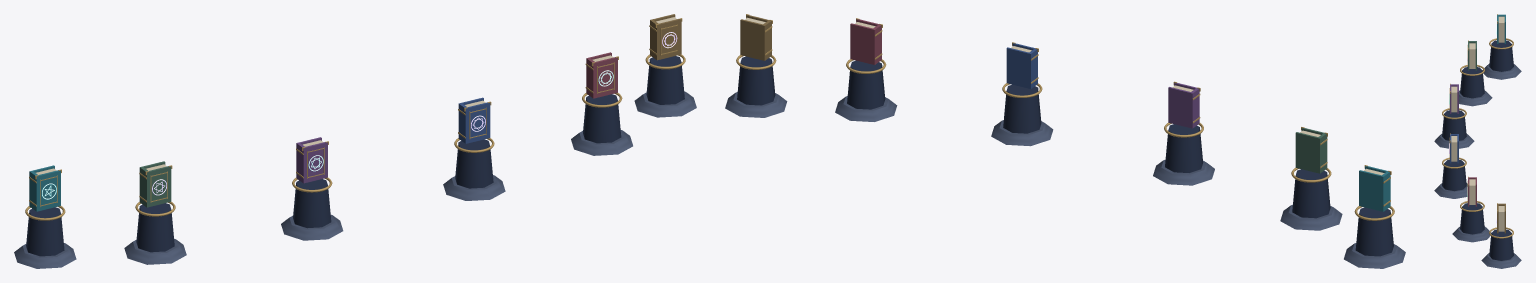
File: archive-grimoires.glb
3 views of the same model, side by side, from view 1: azimuth 30°, elevation 25°; view 2: azimuth 150°, elevation 25°; view 3: azimuth 270°, elevation 25° (orthographic). The views are drawn at different scales.
Parts seen in each view (by area): view 1: GrimoirePedestal_0_dark, GrimoirePedestal_1_dark, GrimoirePedestal_4_dark, GrimoirePedestal_3_dark, GrimoirePedestal_5_dark, GrimoirePedestal_2_dark, Grimoire_2_green, Grimoire_4_blue, Grimoire_1_teal, Grimoire_6_leather, Grimoire_3_violet, Grimoire_5_red (+6 smaller); view 2: GrimoirePedestal_5_dark, GrimoirePedestal_0_dark, GrimoirePedestal_4_dark, GrimoirePedestal_1_dark, GrimoirePedestal_3_dark, GrimoirePedestal_2_dark, Grimoire_2_green, Grimoire_4_blue, Grimoire_5_red, Grimoire_6_leather, Grimoire_3_violet, Grimoire_1_teal (+6 smaller); view 3: GrimoirePedestal_0_dark, GrimoirePedestal_1_dark, GrimoirePedestal_3_dark, GrimoirePedestal_4_dark, GrimoirePedestal_5_dark, GrimoirePedestal_2_dark, GrimoirePedestal_4_stone, GrimoirePedestal_5_stone, GrimoirePedestal_0_stone, GrimoirePedestal_1_stone, GrimoirePedestal_3_stone, GrimoirePedestal_2_stone (+18 smaller).
Boxes of the visible parts, left/top/right/bottom form: GrimoirePedestal_0_dark: left=26, top=207, right=64, bottom=256; GrimoirePedestal_1_dark: left=136, top=203, right=174, bottom=252; GrimoirePedestal_4_dark: left=583, top=94, right=621, bottom=143; GrimoirePedestal_3_dark: left=455, top=139, right=493, bottom=188; GrimoirePedestal_5_dark: left=646, top=56, right=684, bottom=104; GrimoirePedestal_2_dark: left=293, top=179, right=331, bottom=228; Grimoire_2_green: left=139, top=161, right=171, bottom=207; Grimoire_4_blue: left=458, top=97, right=490, bottom=143; Grimoire_1_teal: left=29, top=165, right=60, bottom=211; Grimoire_6_leather: left=650, top=14, right=681, bottom=60; Grimoire_3_violet: left=296, top=137, right=327, bottom=183; Grimoire_5_red: left=586, top=52, right=617, bottom=98; GrimoirePedestal_5_dark: left=737, top=56, right=775, bottom=105; GrimoirePedestal_0_dark: left=1355, top=207, right=1393, bottom=256; GrimoirePedestal_4_dark: left=847, top=60, right=885, bottom=109; GrimoirePedestal_1_dark: left=1292, top=169, right=1330, bottom=218; GrimoirePedestal_3_dark: left=1003, top=84, right=1041, bottom=133; GrimoirePedestal_2_dark: left=1165, top=124, right=1203, bottom=172; Grimoire_2_green: left=1295, top=128, right=1327, bottom=173; Grimoire_4_blue: left=1006, top=43, right=1037, bottom=88; Grimoire_5_red: left=850, top=19, right=881, bottom=64; Grimoire_6_leather: left=740, top=15, right=771, bottom=60; Grimoire_3_violet: left=1168, top=83, right=1199, bottom=128; Grimoire_1_teal: left=1359, top=166, right=1390, bottom=211; GrimoirePedestal_0_dark: left=1489, top=40, right=1513, bottom=71; GrimoirePedestal_1_dark: left=1460, top=67, right=1484, bottom=98; GrimoirePedestal_3_dark: left=1442, top=160, right=1466, bottom=191; GrimoirePedestal_4_dark: left=1460, top=203, right=1484, bottom=234; GrimoirePedestal_5_dark: left=1489, top=229, right=1513, bottom=260; GrimoirePedestal_2_dark: left=1442, top=110, right=1466, bottom=140; GrimoirePedestal_4_stone: left=1452, top=226, right=1491, bottom=242; GrimoirePedestal_5_stone: left=1481, top=253, right=1521, bottom=268; GrimoirePedestal_0_stone: left=1482, top=64, right=1521, bottom=79; GrimoirePedestal_1_stone: left=1459, top=90, right=1492, bottom=106; GrimoirePedestal_3_stone: left=1434, top=183, right=1467, bottom=198; GrimoirePedestal_2_stone: left=1434, top=134, right=1474, bottom=148.
Bounding box in the file's own units: 13.27 × 1.6 × 2.38.
Materials: 12 (1 with a texture image).
